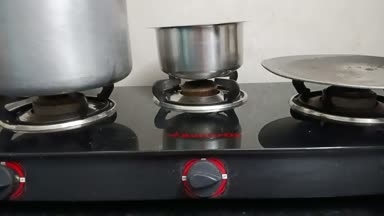flame_gas_off: (160, 72, 248, 199)
